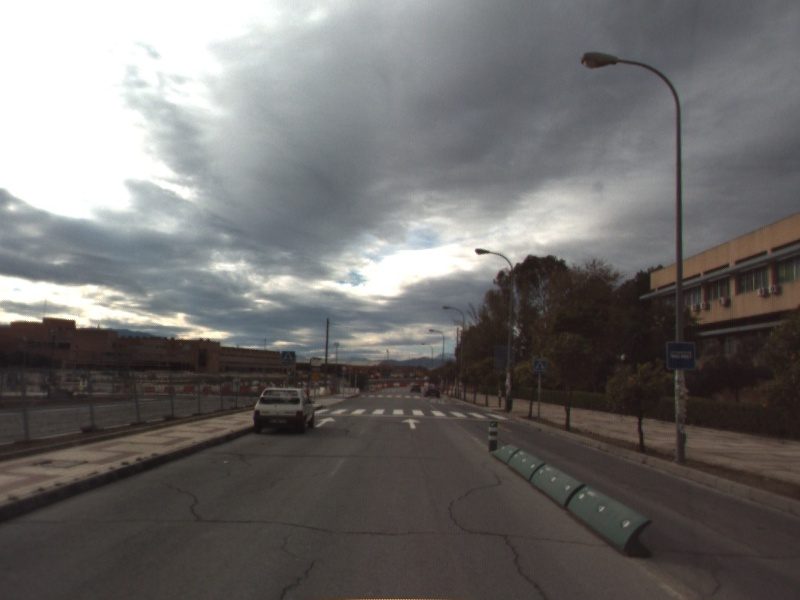STRAIGHT: (399, 416, 423, 430), (313, 415, 337, 429)
